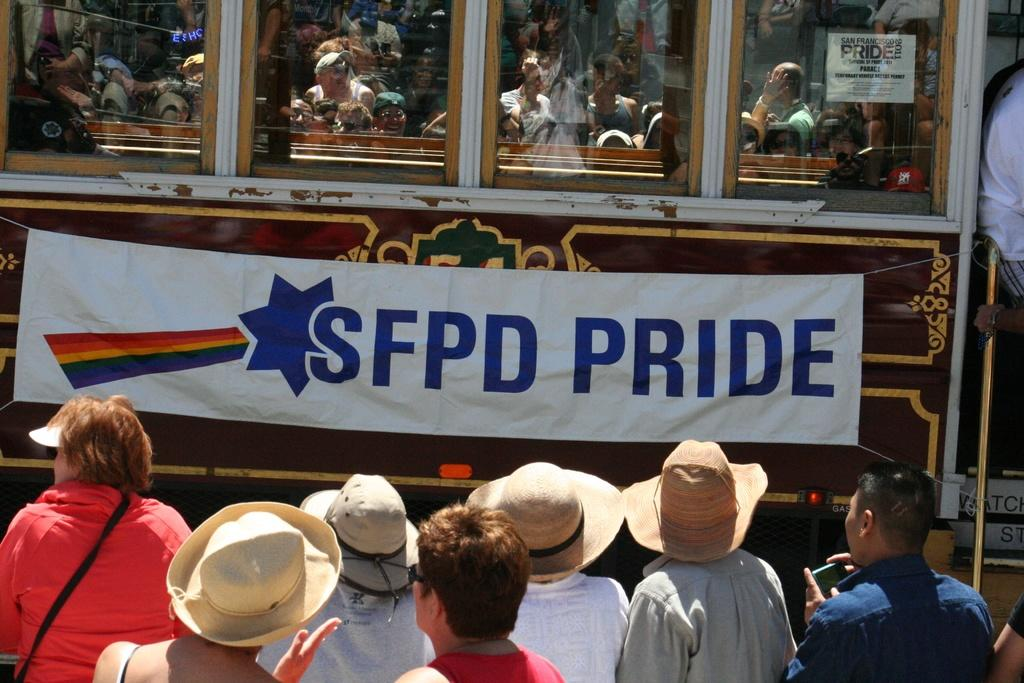Hat: (164, 500, 340, 646), (624, 440, 768, 566), (462, 462, 625, 570), (304, 472, 424, 616)
